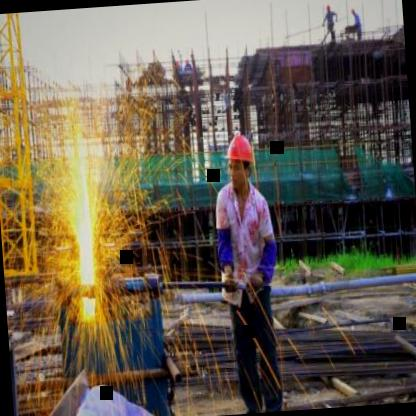helmet: (224, 128, 258, 194)
